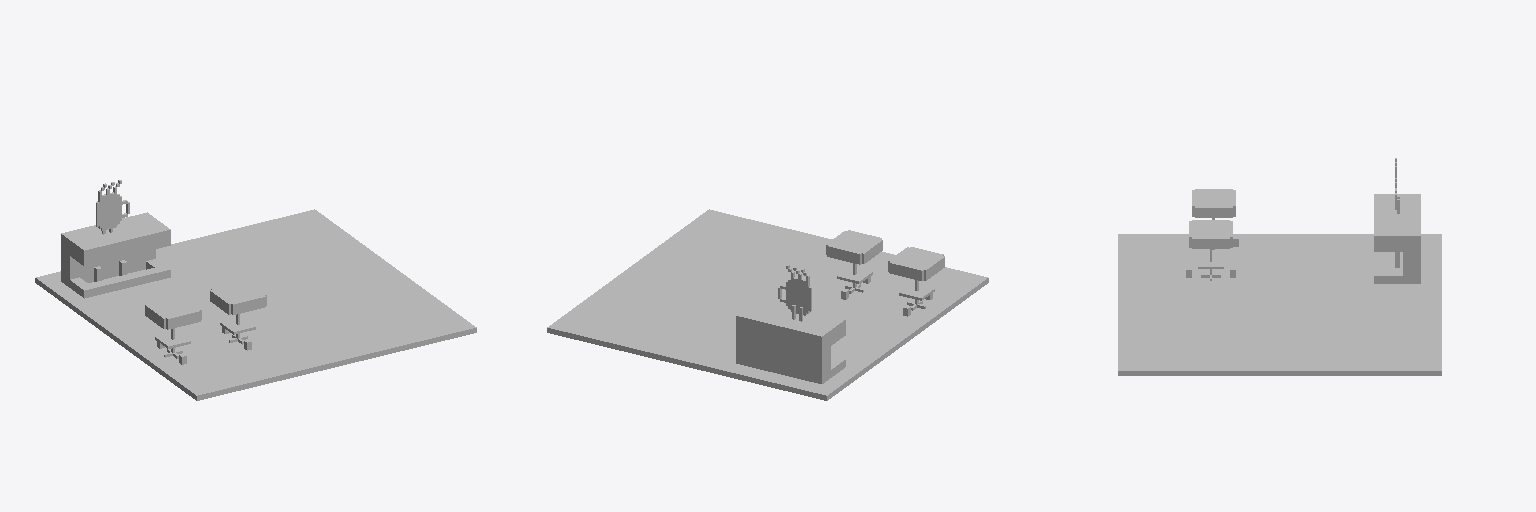
The model's file is Cafe.obj.
3 renders of one model, left to right at view 1: azimuth 30°, elevation 25°; view 2: azimuth 150°, elevation 25°; view 3: azimuth 270°, elevation 25°, orthographic.
Bounding box in the file's own units: 110 × 39 × 110.